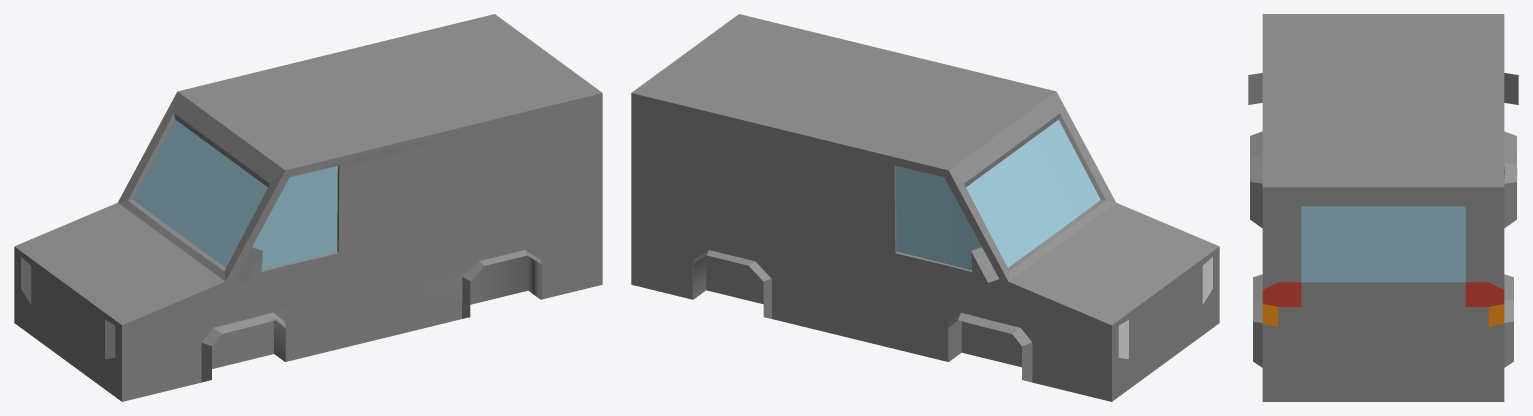
Rendered from greyscale Digivan.fbx.
The picture shows the model from 3 angles, left to right: view 1: azimuth 30°, elevation 25°; view 2: azimuth 150°, elevation 25°; view 3: azimuth 270°, elevation 25°; orthographic projection. The views are drawn at different scales.
Visible parts, largest first — view 1: Cube; view 2: Cube; view 3: Cube.
Boxes of the visible parts, <box> form: Cube: <box>14,14,602,401</box>; Cube: <box>631,14,1219,401</box>; Cube: <box>1248,14,1518,401</box>.
Size of the model in its own units: 952 by 363 by 414.
